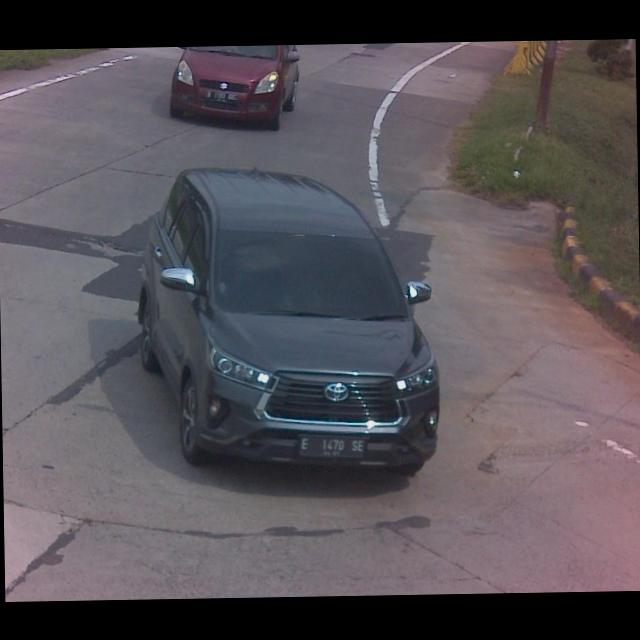plate: (296, 430, 366, 462)
